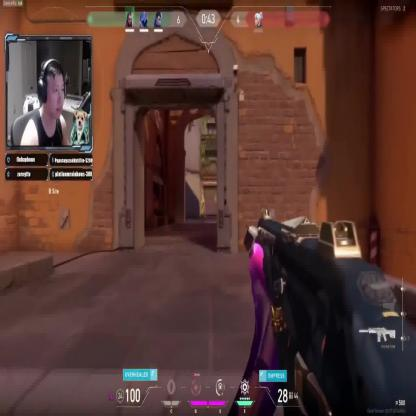enemy: (201, 196, 206, 218)
enemy_head: (202, 196, 204, 201)
